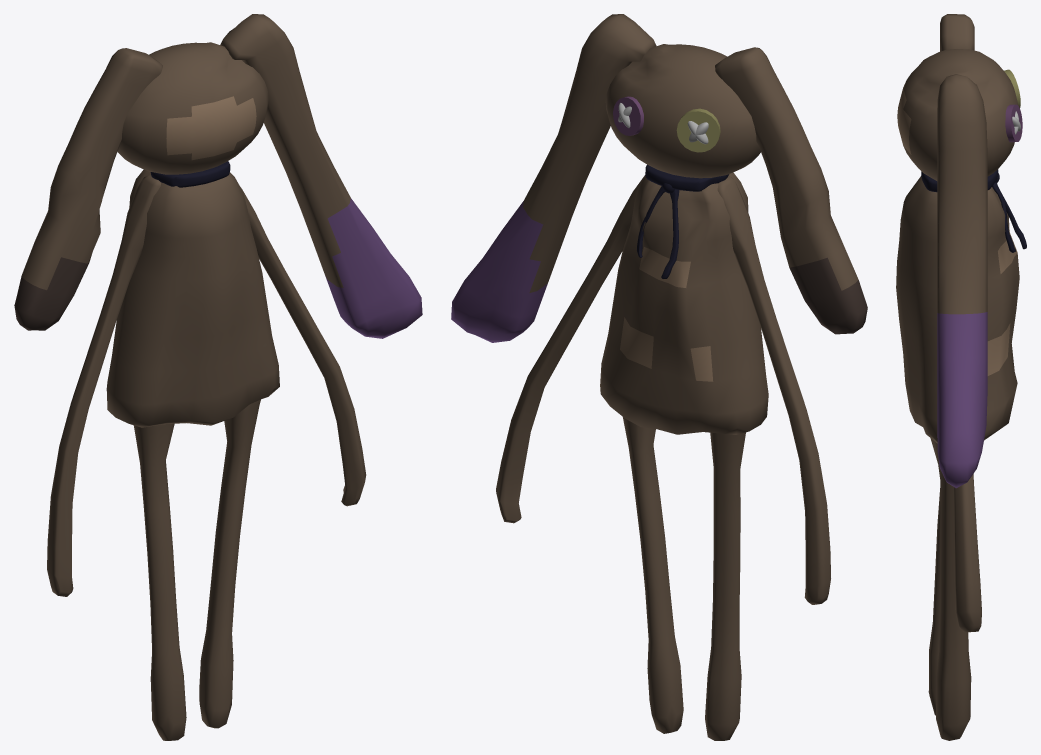
The model's file is CharacterModel3DTextured.fbx.
The picture shows the model from 3 angles, left to right: view 1: azimuth 30°, elevation 25°; view 2: azimuth 150°, elevation 25°; view 3: azimuth 270°, elevation 25°; orthographic projection. The views are drawn at different scales.
Parts seen in each view (by area): view 1: pCube1, pCube12, pCube11, pSphere1, pCube3, pCube4, pCube2, pCube5, pCube6; view 2: pCube1, pCube12, pCube11, pSphere1, pCube4, pCube3, pCube2, pCube5, pCylinder1, pCube6, pCylinder2; view 3: pCube12, pCube1, pSphere1, pCube2, pCube5, pCube3, pCube11, pCylinder2, pCube6, pCube8, pCube7.
Boxes of the visible parts, left/top/right/bottom form: pCube1: left=106, top=169, right=279, bottom=427; pCube12: left=220, top=14, right=422, bottom=338; pCube11: left=14, top=48, right=162, bottom=330; pSphere1: left=117, top=42, right=268, bottom=174; pCube3: left=133, top=423, right=186, bottom=740; pCube4: left=47, top=175, right=161, bottom=596; pCube2: left=199, top=399, right=260, bottom=728; pCube5: left=240, top=187, right=366, bottom=506; pCube6: left=150, top=161, right=230, bottom=187; pCube1: left=600, top=172, right=768, bottom=434; pCube12: left=451, top=14, right=656, bottom=342; pCube11: left=715, top=47, right=867, bottom=334; pSphere1: left=605, top=44, right=760, bottom=178; pCube4: left=717, top=175, right=830, bottom=604; pCube3: left=705, top=432, right=745, bottom=740; pCube2: left=623, top=417, right=683, bottom=733; pCube5: left=496, top=175, right=645, bottom=523; pCylinder1: left=676, top=108, right=720, bottom=152; pCube6: left=645, top=164, right=729, bottom=191; pCylinder2: left=613, top=96, right=643, bottom=135; pCube12: left=937, top=74, right=987, bottom=488; pCube1: left=896, top=176, right=1019, bottom=443; pSphere1: left=897, top=49, right=1018, bottom=180; pCube2: left=930, top=438, right=971, bottom=740; pCube5: left=954, top=474, right=981, bottom=632; pCube3: left=928, top=488, right=940, bottom=715; pCube11: left=940, top=14, right=974, bottom=51; pCylinder2: left=1005, top=104, right=1022, bottom=142; pCube6: left=921, top=169, right=998, bottom=192; pCube8: left=992, top=182, right=1015, bottom=252; pCube7: left=997, top=183, right=1026, bottom=249.
Size of the model in its own units: 8.16 by 13.56 by 2.34.
